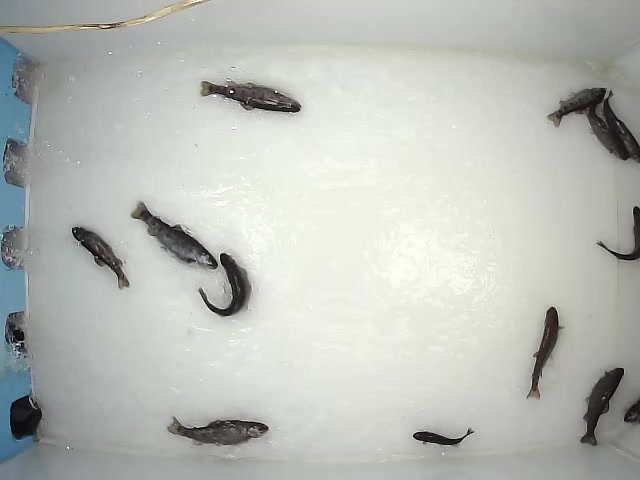fish: (129, 200, 219, 272), (197, 77, 303, 117), (525, 305, 567, 401), (70, 226, 132, 290), (198, 252, 253, 320), (579, 367, 626, 446), (166, 414, 269, 447), (601, 89, 640, 165), (594, 205, 640, 262), (545, 85, 607, 127), (585, 104, 630, 161), (412, 426, 476, 449)
